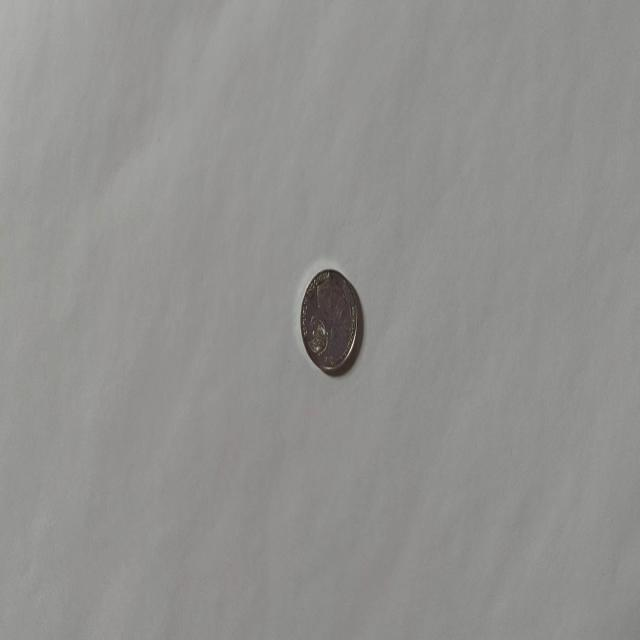dua ratus rupiah: (299, 266, 359, 374)
